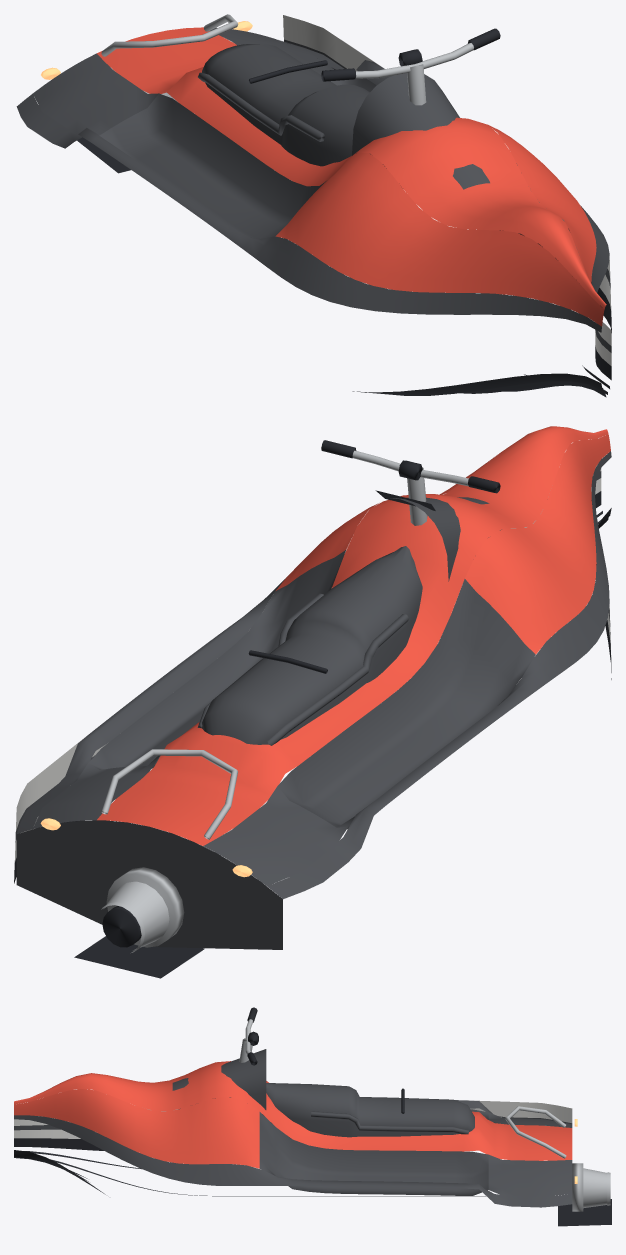
The model's file is craft.glb.
3 views of the same model, one above another, from view 1: azimuth 30°, elevation 25°; view 2: azimuth 150°, elevation 25°; view 3: azimuth 270°, elevation 25° (orthographic). The views are drawn at different scales.
Visible parts, largest first — view 1: Hull, Bars; view 2: Hull, Bars; view 3: Hull, Bars.
Boxes of the visible parts, left/top/right/bottom form: Hull: left=16, top=14, right=611, bottom=397; Bars: left=321, top=28, right=500, bottom=105; Hull: left=14, top=426, right=611, bottom=978; Bars: left=321, top=440, right=500, bottom=525; Hull: left=14, top=1049, right=611, bottom=1226; Bars: left=239, top=1007, right=258, bottom=1065.
Size of the model in its own units: 1.18 by 1.1 by 3.32.
